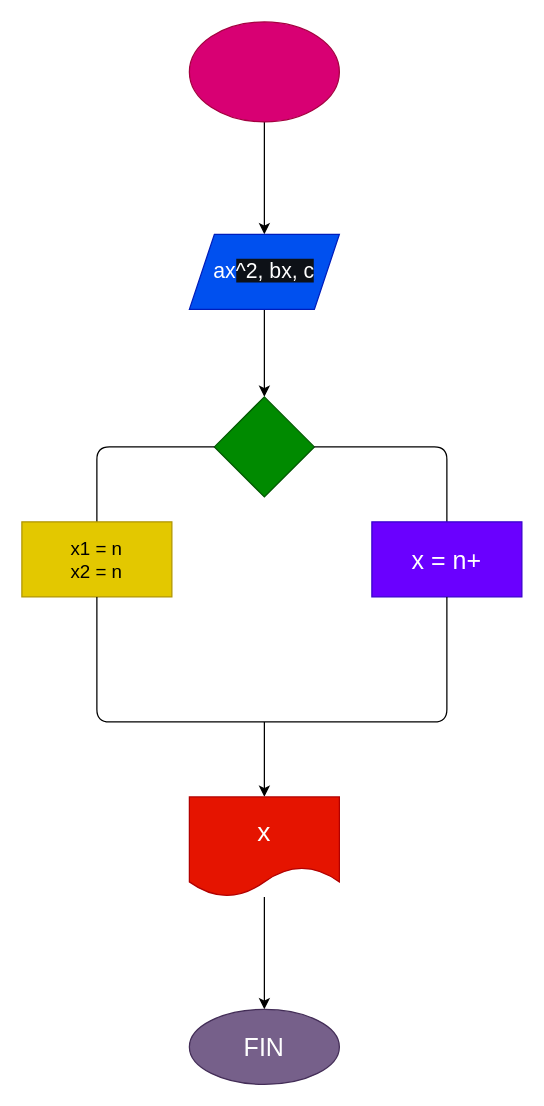
This 544x1106 diagram has some shape labels left out. Each missing label, with the box of its shape:
ax ^2+bx+c>0: (213, 396, 314, 497)
INICIO: (188, 21, 339, 122)
